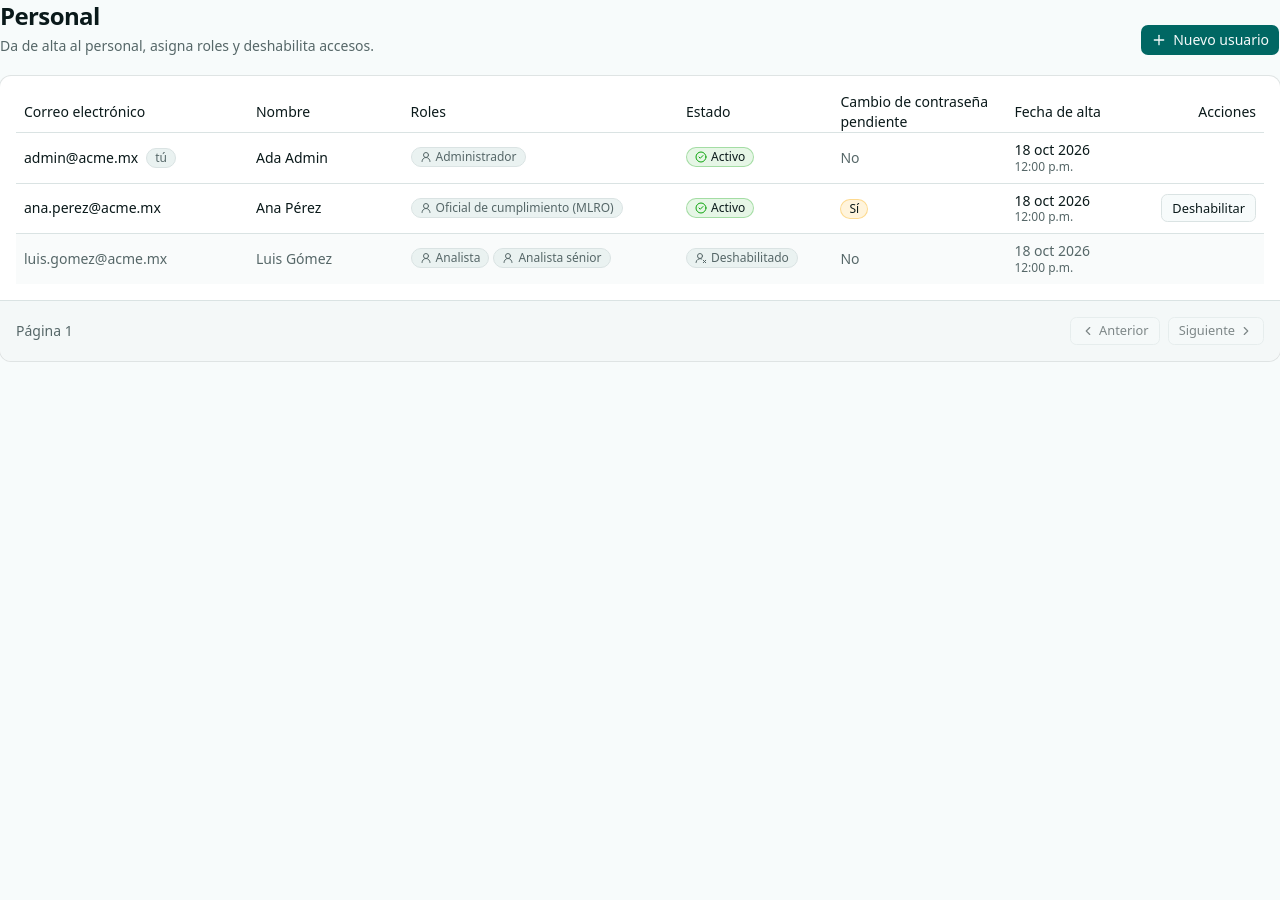
Test: StaffPage: disabling › asks first, then disables the account and refreshes the list
Expected: the text "ana.perez@acme.mx" is shown, x1=24 y1=198 x2=161 y2=218
Click the button with aria-label "Deshabilitar a Ana Pérez": (1209, 208) x1=1161 y1=194 x2=1256 y2=222
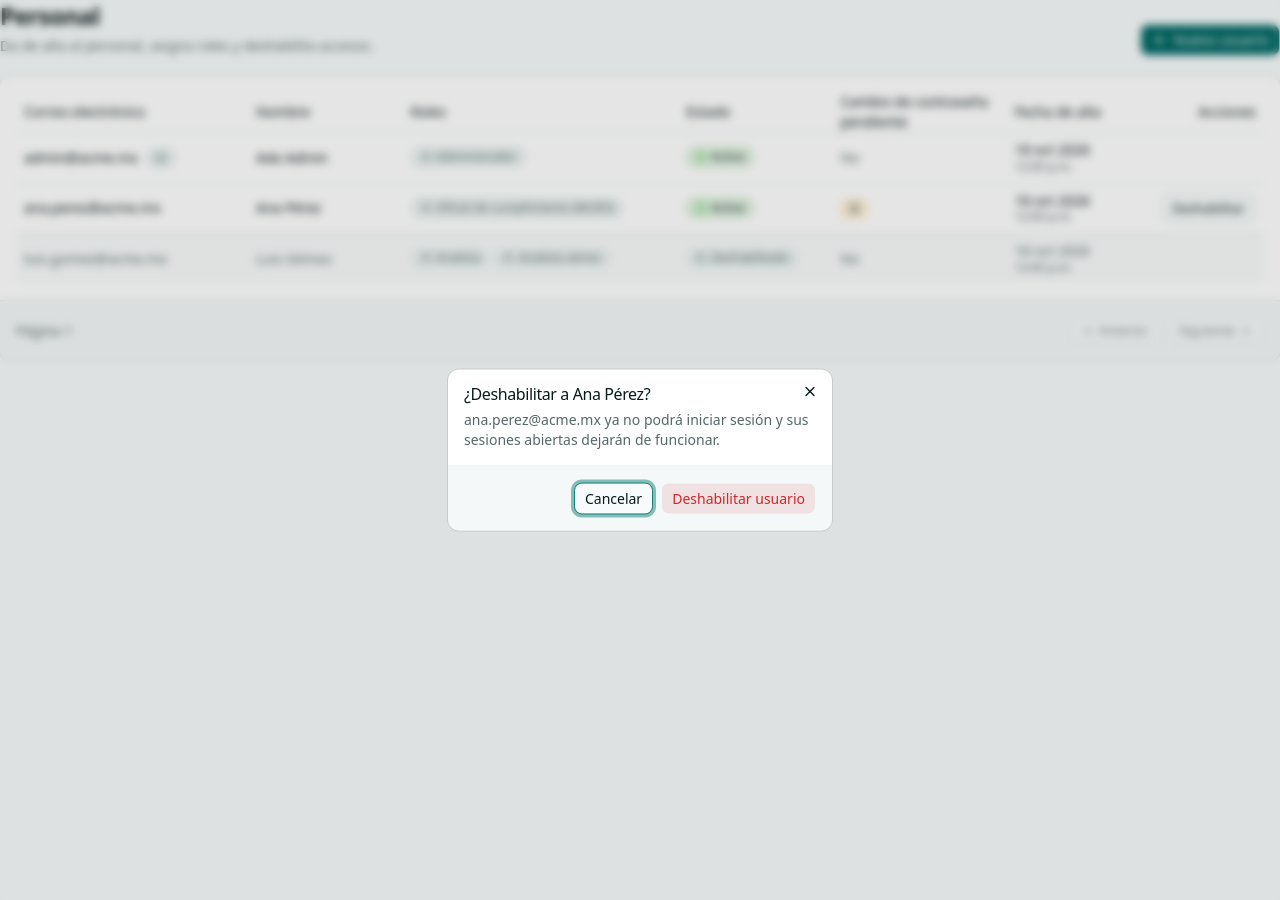
Expected: the dialog "¿Deshabilitar a Ana Pérez?" shows "ana.perez@acme.mx", x1=464 y1=410 x2=809 y2=448
Click the button "Deshabilitar usuario": (739, 498) x1=661 y1=482 x2=816 y2=514
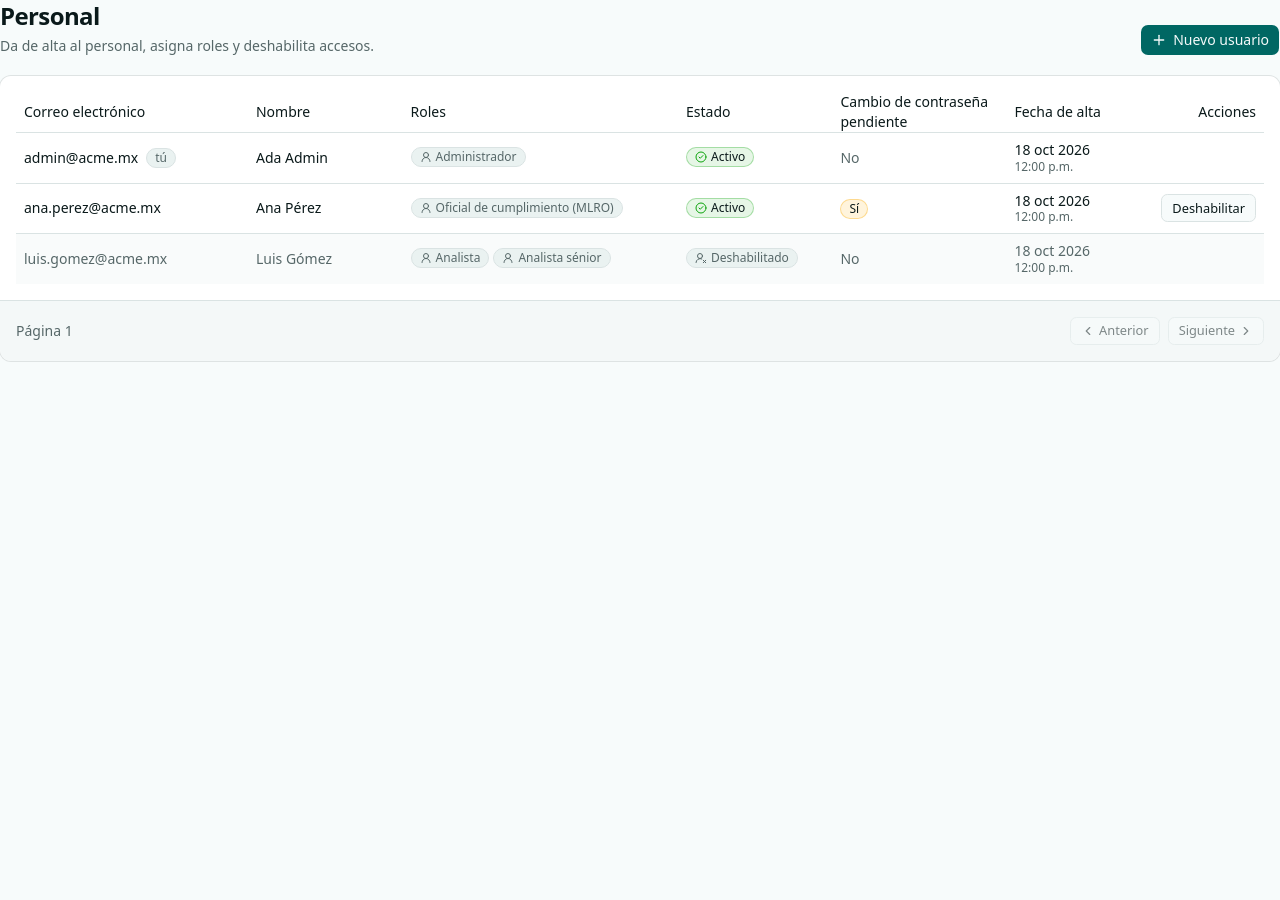
Expected: the dialog is gone
